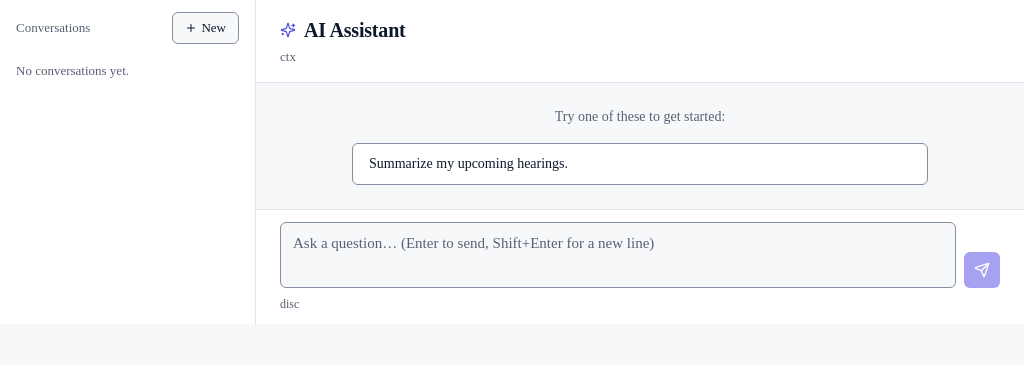
AssistantChat › shows a friendly error with retry on failure
Click the button "Summarize my upcoming hearings.".
click(469, 164)  # box [352,143,928,185]
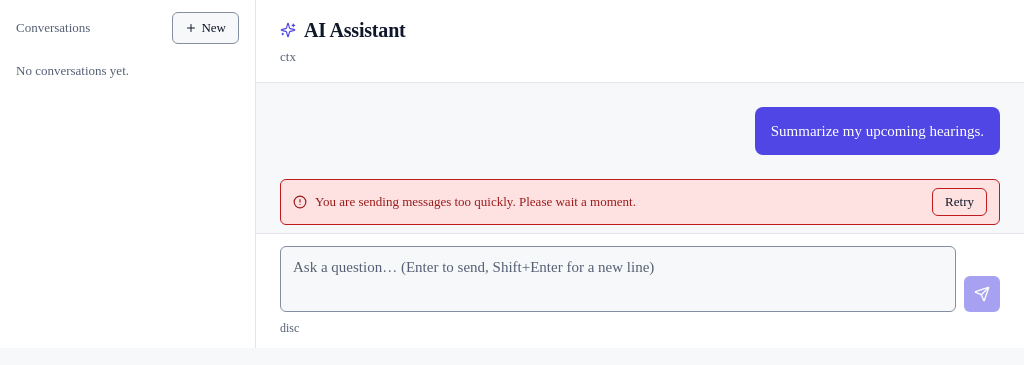
Check: the message shows "too quickly", box [315,194,636,209]
Check: the button "Retry" is shown, box [932,188,987,216]
